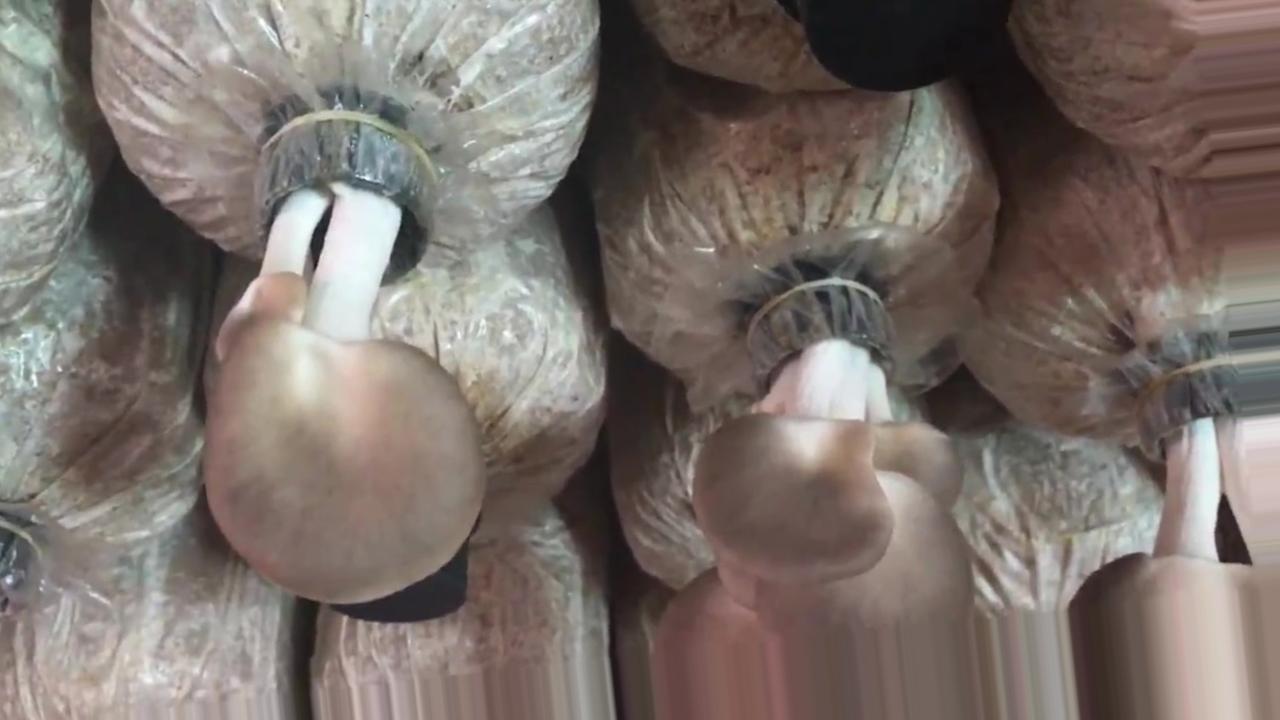nam: (648, 283, 975, 720), (206, 108, 485, 606), (1073, 365, 1280, 716)
